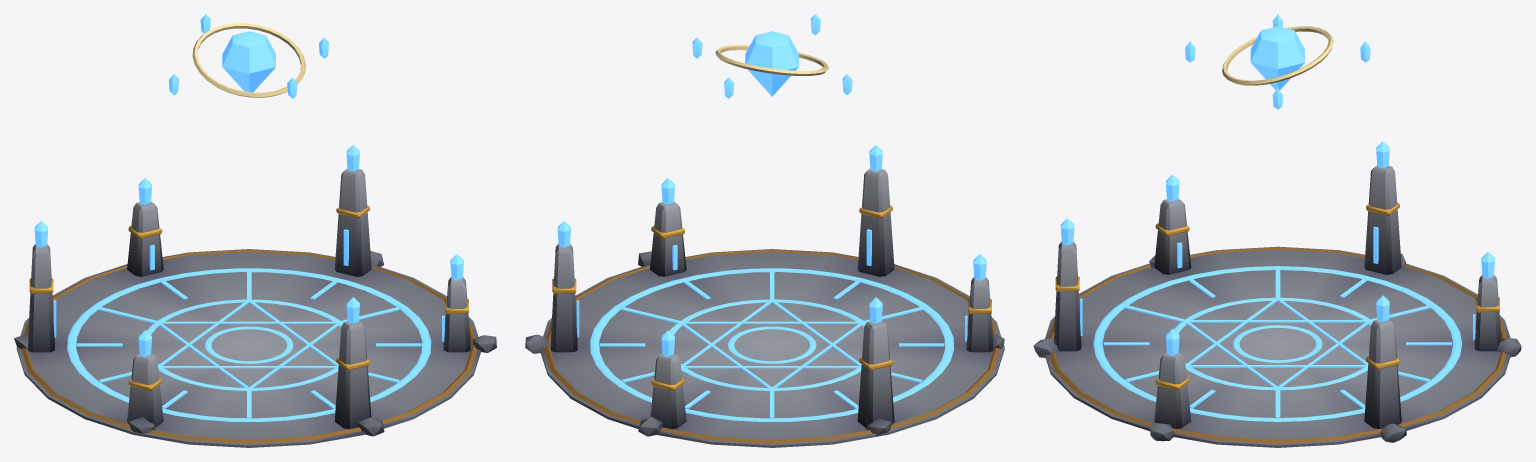
File: fountain.glb
The picture shows the model from 3 angles, left to right: view 1: azimuth 30°, elevation 25°; view 2: azimuth 150°, elevation 25°; view 3: azimuth 270°, elevation 25°; orthographic projection.
Visible parts, largest first — view 1: base, crystal, orbit; view 2: base, crystal, orbit; view 3: base, crystal, orbit.
Part boxes in pixels (x1,y1,x2,y2): base: (14,145,496,447); crystal: (192,23,305,97); orbit: (169,14,328,98); base: (525,145,1004,447); crystal: (715,31,828,96); orbit: (692,14,852,98); base: (1033,141,1521,447); crystal: (1222,26,1333,90); orbit: (1185,14,1370,109).
Size of the model in its own units: 5.1 by 3.89 by 5.29.
